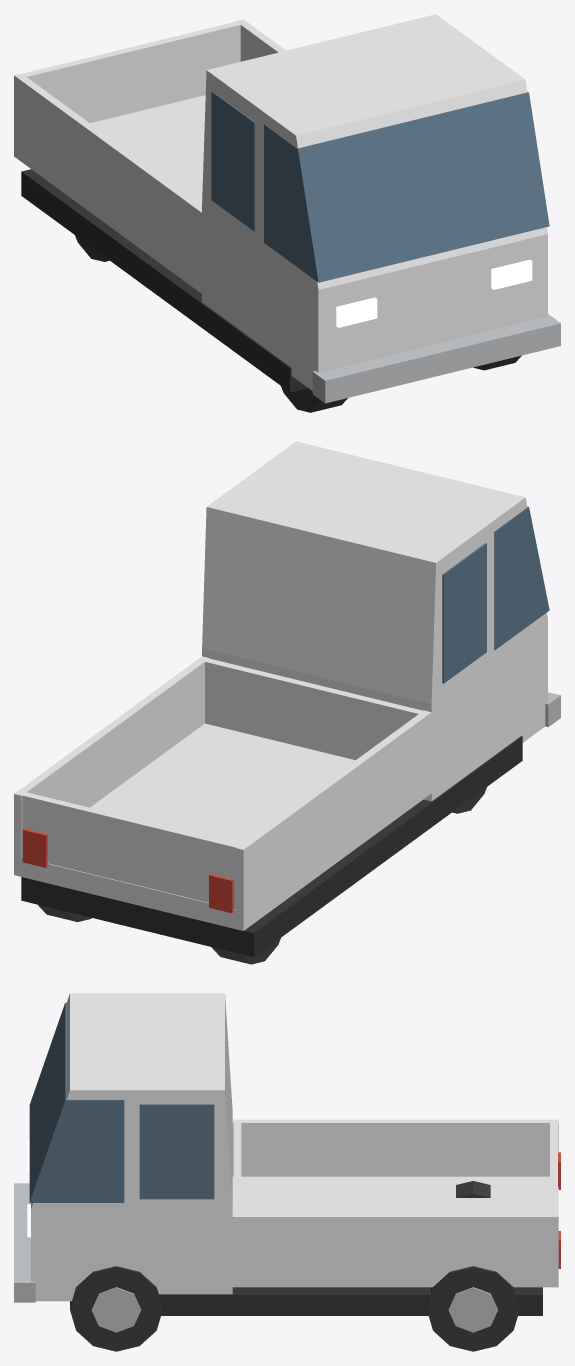
Rendered from keitora.glb.
3 renders of one model, top to bottom at view 1: azimuth 30°, elevation 25°; view 2: azimuth 150°, elevation 25°; view 3: azimuth 270°, elevation 25°, orthographic. The views are drawn at different scales.
Parts seen in each view (by area): view 1: keitora; view 2: keitora; view 3: keitora.
Boxes of the visible parts, box(x1,y1,x2,y2) form: keitora: box(14, 14, 560, 412); keitora: box(14, 441, 560, 964); keitora: box(14, 993, 560, 1351).
Size of the model in its own units: 1.53 by 1.85 by 3.53.
